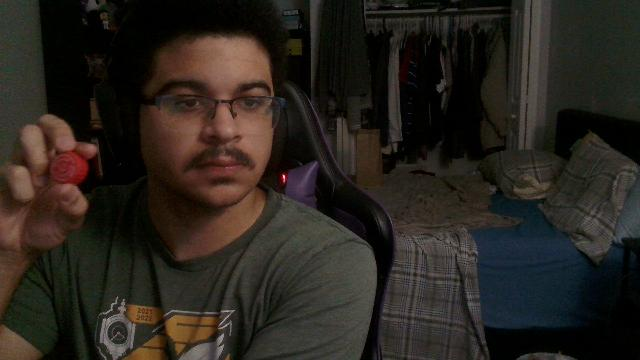cap: (52, 152, 88, 184)
